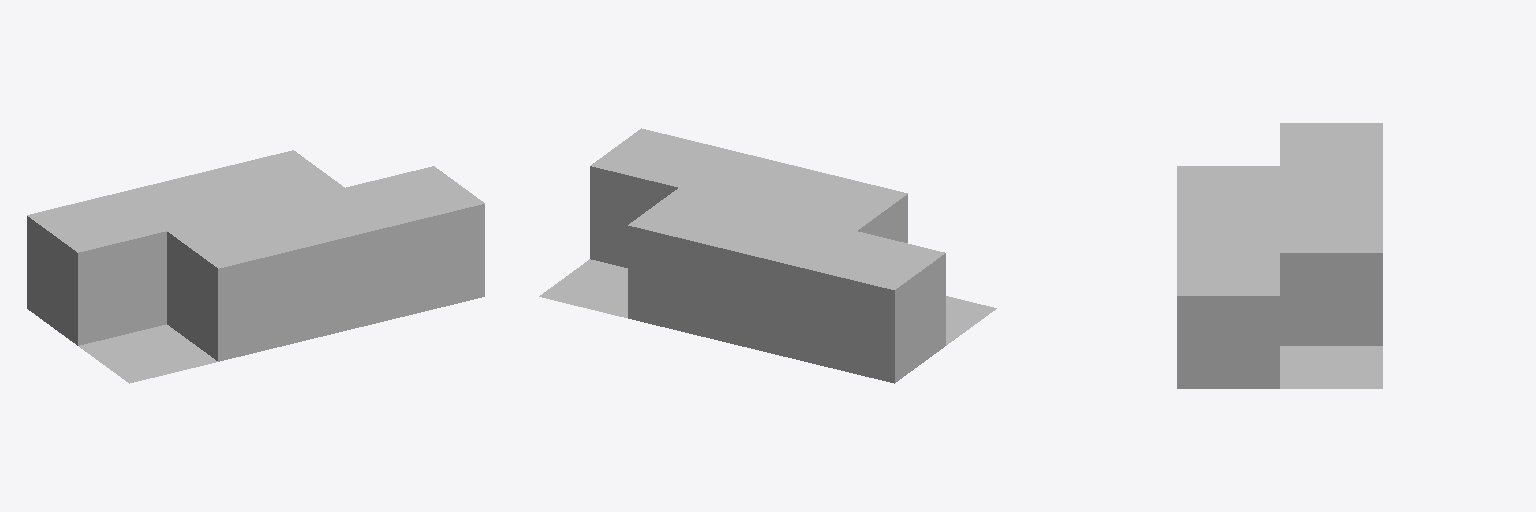
3 renders of one model, left to right at view 1: azimuth 30°, elevation 25°; view 2: azimuth 150°, elevation 25°; view 3: azimuth 270°, elevation 25°, orthographic.
Parts seen in each view (by area): view 1: Object(1,1)[length_1], Object(2,2)[length_1], Object(3,2)[length_1], Object(4,2)[length_1], Object(1,2)[length_0], Object(2,1)[length_1], Object(3,1)[length_1]; view 2: Object(1,1)[length_1], Object(2,1)[length_1], Object(3,1)[length_1], Object(4,2)[length_1], Object(2,2)[length_1], Object(3,2)[length_1], Object(4,1)[length_0], Object(1,2)[length_0]; view 3: Object(3,1)[length_1], Object(4,2)[length_1], Object(3,2)[length_1], Object(1,1)[length_1], Object(2,1)[length_1], Object(2,2)[length_1], Object(4,1)[length_0].
Part boxes in pixels (left/top/right/bottom): Object(1,1)[length_1]: left=27, top=194, right=166, bottom=345; Object(2,2)[length_1]: left=167, top=210, right=306, bottom=361; Object(3,2)[length_1]: left=256, top=188, right=395, bottom=339; Object(4,2)[length_1]: left=346, top=166, right=484, bottom=317; Object(1,2)[length_0]: left=79, top=324, right=217, bottom=383; Object(2,1)[length_1]: left=116, top=172, right=255, bottom=230; Object(3,1)[length_1]: left=206, top=150, right=344, bottom=208; Object(1,1)[length_1]: left=806, top=231, right=945, bottom=383; Object(2,1)[length_1]: left=717, top=210, right=856, bottom=361; Object(3,1)[length_1]: left=628, top=188, right=767, bottom=339; Object(4,2)[length_1]: left=590, top=128, right=729, bottom=267; Object(2,2)[length_1]: left=768, top=172, right=907, bottom=242; Object(3,2)[length_1]: left=679, top=150, right=817, bottom=208; Object(4,1)[length_0]: left=539, top=259, right=627, bottom=317; Object(1,2)[length_0]: left=946, top=296, right=996, bottom=345; Object(3,1)[length_1]: left=1280, top=209, right=1382, bottom=345; Object(4,2)[length_1]: left=1177, top=253, right=1279, bottom=388; Object(3,2)[length_1]: left=1177, top=209, right=1279, bottom=252; Object(1,1)[length_1]: left=1280, top=123, right=1382, bottom=165; Object(2,1)[length_1]: left=1280, top=166, right=1382, bottom=208; Object(2,2)[length_1]: left=1177, top=166, right=1279, bottom=208; Object(4,1)[length_0]: left=1280, top=346, right=1382, bottom=388.
Size of the model in its own units: 4 by 1 by 2.